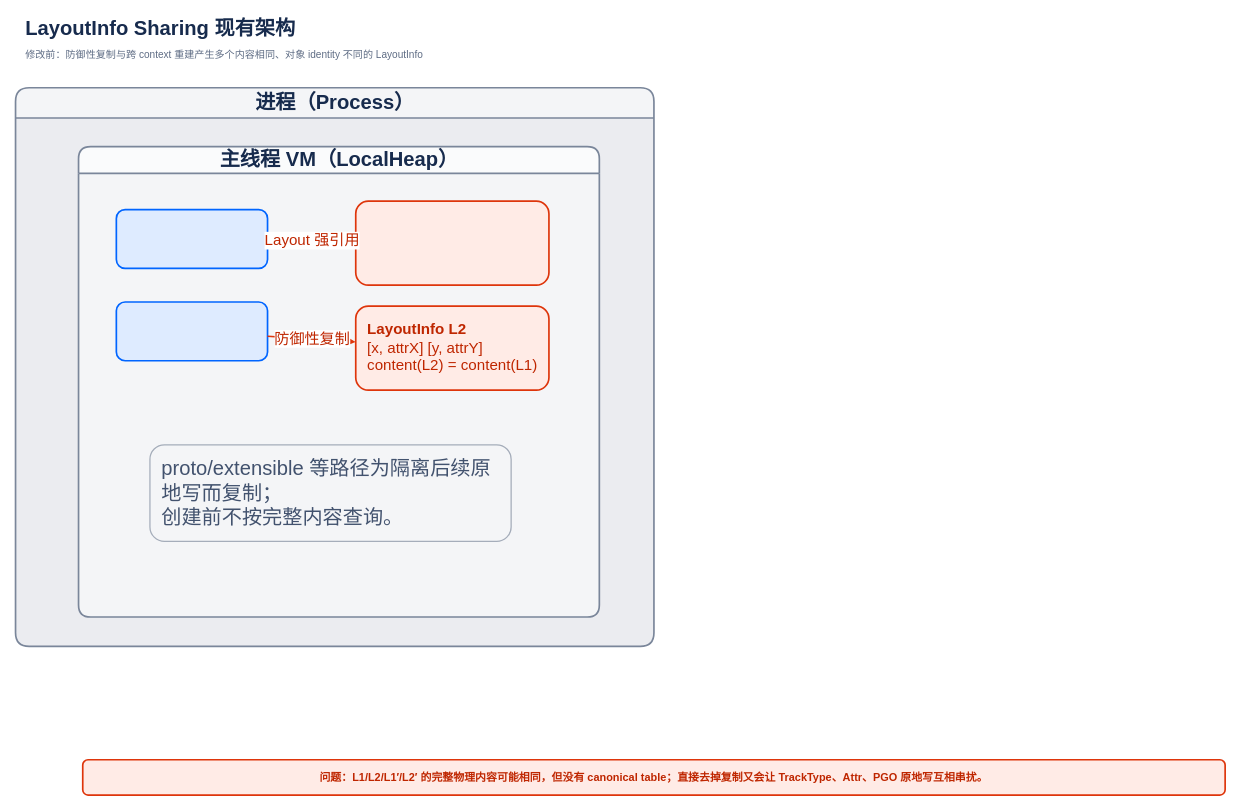
Image size: 1240x810. Some labels were removed from this diagram. Each missing label, with the centre of its shape:
JSHClass A shape {x, y}: pixel 191 238
JSHClass B proto/extensible 变体: pixel 191 331
LayoutInfo L1 [x, attrX] [y, attrY] identity(L1) ≠ identity(L2): pixel 451 243
